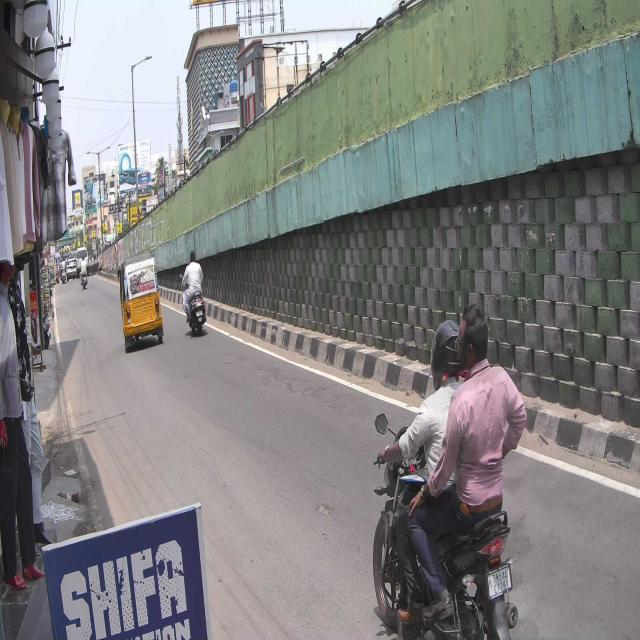double_rider: (373, 303, 522, 640)
